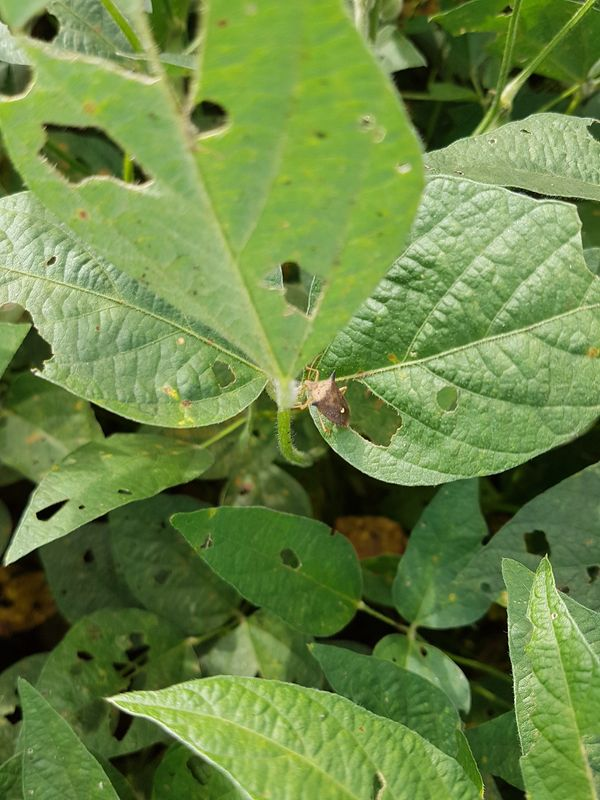Euschistus_heros_adulto: (275, 351, 367, 447)
